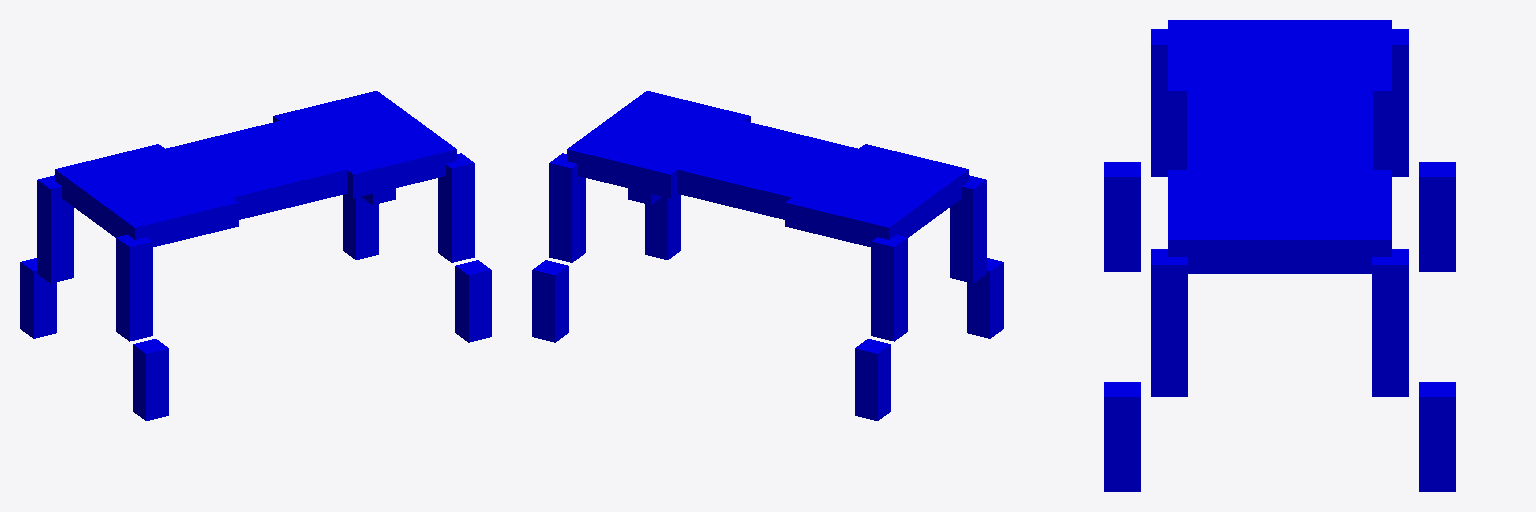
URDF robot description (basic_quad):
<?xml version="1.0" ?>
<!-- =================================================================================== -->
<!-- |    This document was autogenerated by xacro from basic_quad.urdf.xacro          | -->
<!-- |    EDITING THIS FILE BY HAND IS NOT RECOMMENDED                                 | -->
<!-- =================================================================================== -->
<robot name="basic_quad">
  <!-- Actual URDF Definitions -->
  <link name="body">
    <visual>
      <origin rpy="0 0 0" xyz="0.0 0.0 0.0"/>
      <geometry>
        <box size="0.7 0.25145 0.05"/>
      </geometry>
      <material name="blue">
        <color rgba="0 0 1 1"/>
      </material>
    </visual>
    <collision>
      <origin rpy="0 0 0" xyz="0.0 0.0 0.0"/>
      <geometry>
        <box size="0.7 0.25145 0.05"/>
      </geometry>
    </collision>
  </link>
  <link name="fl_thigh">
    <visual>
      <origin rpy="0 0 0" xyz="0.11275 0.0 0.0"/>
      <geometry>
        <box size="0.2255 0.05 0.05"/>
      </geometry>
      <material name="blue">
        <color rgba="0 0 1 1"/>
      </material>
    </visual>
    <collision>
      <origin rpy="0 0 0" xyz="0.11275 0.0 0.0"/>
      <geometry>
        <box size="0.2255 0.05 0.05"/>
      </geometry>
    </collision>
  </link>
  <link name="fl_calf">
    <visual>
      <origin rpy="0 0 0" xyz="0.0 0.0 -0.098125"/>
      <geometry>
        <box size="0.05 0.05 0.19625"/>
      </geometry>
      <material name="blue">
        <color rgba="0 0 1 1"/>
      </material>
    </visual>
    <collision>
      <origin rpy="0 0 0" xyz="0.0 0.0 -0.098125"/>
      <geometry>
        <box size="0.05 0.05 0.19625"/>
      </geometry>
    </collision>
  </link>
  <link name="fl_foot">
    <visual>
      <origin rpy="0 0 0" xyz="0.0 0.0 -0.07"/>
      <geometry>
        <box size="0.05 0.05 0.14"/>
      </geometry>
      <material name="blue">
        <color rgba="0 0 1 1"/>
      </material>
    </visual>
    <collision>
      <origin rpy="0 0 0" xyz="0.0 0.0 -0.07"/>
      <geometry>
        <box size="0.05 0.05 0.14"/>
      </geometry>
    </collision>
  </link>
  <joint name="fl_hip_roll" type="revolute">
    <parent link="body"/>
    <child link="fl_thigh"/>
    <origin rpy="0 0 0" xyz="0.12449999999999997 0.125725 0.0"/>
    <axis xyz="1 0 0"/>
    <limit effort="1" lower="-3.14" upper="3.14" velocity="1"/>
  </joint>
  <joint name="fl_hip_pitch" type="revolute">
    <parent link="fl_thigh"/>
    <child link="fl_calf"/>
    <origin rpy="0 0 0" xyz="0.2255 0.023 0.0"/>
    <axis xyz="0 1 0"/>
    <limit effort="1" lower="-3.14" upper="3.14" velocity="1"/>
  </joint>
  <joint name="fl_knee_pitch" type="revolute">
    <parent link="fl_calf"/>
    <child link="fl_foot"/>
    <origin rpy="0 0 0" xyz="0.0 0.063 -0.19625"/>
    <axis xyz="0 1 0"/>
    <limit effort="1" lower="-3.14" upper="3.14" velocity="1"/>
  </joint>
  <link name="fr_thigh">
    <visual>
      <origin rpy="0 0 0" xyz="0.11275 0.0 0.0"/>
      <geometry>
        <box size="0.2255 0.05 0.05"/>
      </geometry>
      <material name="blue">
        <color rgba="0 0 1 1"/>
      </material>
    </visual>
    <collision>
      <origin rpy="0 0 0" xyz="0.11275 0.0 0.0"/>
      <geometry>
        <box size="0.2255 0.05 0.05"/>
      </geometry>
    </collision>
  </link>
  <link name="fr_calf">
    <visual>
      <origin rpy="0 0 0" xyz="0.0 0.0 -0.098125"/>
      <geometry>
        <box size="0.05 0.05 0.19625"/>
      </geometry>
      <material name="blue">
        <color rgba="0 0 1 1"/>
      </material>
    </visual>
    <collision>
      <origin rpy="0 0 0" xyz="0.0 0.0 -0.098125"/>
      <geometry>
        <box size="0.05 0.05 0.19625"/>
      </geometry>
    </collision>
  </link>
  <link name="fr_foot">
    <visual>
      <origin rpy="0 0 0" xyz="0.0 0.0 -0.07"/>
      <geometry>
        <box size="0.05 0.05 0.14"/>
      </geometry>
      <material name="blue">
        <color rgba="0 0 1 1"/>
      </material>
    </visual>
    <collision>
      <origin rpy="0 0 0" xyz="0.0 0.0 -0.07"/>
      <geometry>
        <box size="0.05 0.05 0.14"/>
      </geometry>
    </collision>
  </link>
  <joint name="fr_hip_roll" type="revolute">
    <parent link="body"/>
    <child link="fr_thigh"/>
    <origin rpy="0 0 0" xyz="0.12449999999999997 -0.125725 0.0"/>
    <axis xyz="-1 0 0"/>
    <limit effort="1" lower="-3.14" upper="3.14" velocity="1"/>
  </joint>
  <joint name="fr_hip_pitch" type="revolute">
    <parent link="fr_thigh"/>
    <child link="fr_calf"/>
    <origin rpy="0 0 0" xyz="0.2255 -0.023 0.0"/>
    <axis xyz="0 -1 0"/>
    <limit effort="1" lower="-3.14" upper="3.14" velocity="1"/>
  </joint>
  <joint name="fr_knee_pitch" type="revolute">
    <parent link="fr_calf"/>
    <child link="fr_foot"/>
    <origin rpy="0 0 0" xyz="0.0 -0.063 -0.19625"/>
    <axis xyz="0 -1 0"/>
    <limit effort="1" lower="-3.14" upper="3.14" velocity="1"/>
  </joint>
  <link name="bl_thigh">
    <visual>
      <origin rpy="0 0 0" xyz="-0.11275 0.0 0.0"/>
      <geometry>
        <box size="0.2255 0.05 0.05"/>
      </geometry>
      <material name="blue">
        <color rgba="0 0 1 1"/>
      </material>
    </visual>
    <collision>
      <origin rpy="0 0 0" xyz="-0.11275 0.0 0.0"/>
      <geometry>
        <box size="0.2255 0.05 0.05"/>
      </geometry>
    </collision>
  </link>
  <link name="bl_calf">
    <visual>
      <origin rpy="0 0 0" xyz="0.0 0.0 -0.098125"/>
      <geometry>
        <box size="0.05 0.05 0.19625"/>
      </geometry>
      <material name="blue">
        <color rgba="0 0 1 1"/>
      </material>
    </visual>
    <collision>
      <origin rpy="0 0 0" xyz="0.0 0.0 -0.098125"/>
      <geometry>
        <box size="0.05 0.05 0.19625"/>
      </geometry>
    </collision>
  </link>
  <link name="bl_foot">
    <visual>
      <origin rpy="0 0 0" xyz="0.0 0.0 -0.07"/>
      <geometry>
        <box size="0.05 0.05 0.14"/>
      </geometry>
      <material name="blue">
        <color rgba="0 0 1 1"/>
      </material>
    </visual>
    <collision>
      <origin rpy="0 0 0" xyz="0.0 0.0 -0.07"/>
      <geometry>
        <box size="0.05 0.05 0.14"/>
      </geometry>
    </collision>
  </link>
  <joint name="bl_hip_roll" type="revolute">
    <parent link="body"/>
    <child link="bl_thigh"/>
    <origin rpy="0 0 0" xyz="-0.12449999999999997 0.125725 0.0"/>
    <axis xyz="1 0 0"/>
    <limit effort="1" lower="-3.14" upper="3.14" velocity="1"/>
  </joint>
  <joint name="bl_hip_pitch" type="revolute">
    <parent link="bl_thigh"/>
    <child link="bl_calf"/>
    <origin rpy="0 0 0" xyz="-0.2255 0.023 0.0"/>
    <axis xyz="0 1 0"/>
    <limit effort="1" lower="-3.14" upper="3.14" velocity="1"/>
  </joint>
  <joint name="bl_knee_pitch" type="revolute">
    <parent link="bl_calf"/>
    <child link="bl_foot"/>
    <origin rpy="0 0 0" xyz="0.0 0.063 -0.19625"/>
    <axis xyz="0 1 0"/>
    <limit effort="1" lower="-3.14" upper="3.14" velocity="1"/>
  </joint>
  <link name="br_thigh">
    <visual>
      <origin rpy="0 0 0" xyz="-0.11275 0.0 0.0"/>
      <geometry>
        <box size="0.2255 0.05 0.05"/>
      </geometry>
      <material name="blue">
        <color rgba="0 0 1 1"/>
      </material>
    </visual>
    <collision>
      <origin rpy="0 0 0" xyz="-0.11275 0.0 0.0"/>
      <geometry>
        <box size="0.2255 0.05 0.05"/>
      </geometry>
    </collision>
  </link>
  <link name="br_calf">
    <visual>
      <origin rpy="0 0 0" xyz="0.0 0.0 -0.098125"/>
      <geometry>
        <box size="0.05 0.05 0.19625"/>
      </geometry>
      <material name="blue">
        <color rgba="0 0 1 1"/>
      </material>
    </visual>
    <collision>
      <origin rpy="0 0 0" xyz="0.0 0.0 -0.098125"/>
      <geometry>
        <box size="0.05 0.05 0.19625"/>
      </geometry>
    </collision>
  </link>
  <link name="br_foot">
    <visual>
      <origin rpy="0 0 0" xyz="0.0 0.0 -0.07"/>
      <geometry>
        <box size="0.05 0.05 0.14"/>
      </geometry>
      <material name="blue">
        <color rgba="0 0 1 1"/>
      </material>
    </visual>
    <collision>
      <origin rpy="0 0 0" xyz="0.0 0.0 -0.07"/>
      <geometry>
        <box size="0.05 0.05 0.14"/>
      </geometry>
    </collision>
  </link>
  <joint name="br_hip_roll" type="revolute">
    <parent link="body"/>
    <child link="br_thigh"/>
    <origin rpy="0 0 0" xyz="-0.12449999999999997 -0.125725 0.0"/>
    <axis xyz="-1 0 0"/>
    <limit effort="1" lower="-3.14" upper="3.14" velocity="1"/>
  </joint>
  <joint name="br_hip_pitch" type="revolute">
    <parent link="br_thigh"/>
    <child link="br_calf"/>
    <origin rpy="0 0 0" xyz="-0.2255 -0.023 0.0"/>
    <axis xyz="0 -1 0"/>
    <limit effort="1" lower="-3.14" upper="3.14" velocity="1"/>
  </joint>
  <joint name="br_knee_pitch" type="revolute">
    <parent link="br_calf"/>
    <child link="br_foot"/>
    <origin rpy="0 0 0" xyz="0.0 -0.063 -0.19625"/>
    <axis xyz="0 -1 0"/>
    <limit effort="1" lower="-3.14" upper="3.14" velocity="1"/>
  </joint>
</robot>

--- What the picture shows (computed from the rendered views, not written in the file) ---
Views: 3 orthographic renders of the robot side by side, from view 1: azimuth 30°, elevation 25°; view 2: azimuth 150°, elevation 25°; view 3: azimuth 270°, elevation 25°.
Robot: basic_quad — 13 links, 12 joints (12 revolute); root link body; default pose: every joint at zero.
Visible links, largest first — view 1: body, fr_thigh, br_calf, fr_calf, bl_calf, br_thigh, fr_foot, br_foot, bl_foot, fl_foot, bl_thigh, fl_thigh; view 2: body, fl_thigh, bl_calf, fl_calf, br_calf, bl_thigh, fl_foot, bl_foot, br_foot, fr_foot, br_thigh, fr_thigh; view 3: body, fl_calf, fr_calf, fl_foot, fr_foot, bl_foot, br_foot, bl_calf, br_calf, bl_thigh, br_thigh, fr_thigh (+1 smaller).
Link boxes in pixels (x1,y1,x2,y2): body: (61,96,443,237); fr_thigh: (341,140,456,198); br_calf: (116,235,152,341); fr_calf: (438,153,474,262); bl_calf: (37,175,73,283); br_thigh: (122,193,238,246); fr_foot: (455,260,491,342); br_foot: (133,339,168,420); bl_foot: (20,258,56,338); fl_foot: (343,194,378,259); bl_thigh: (55,144,164,184); fl_thigh: (273,91,383,121); body: (580,96,962,237); fl_thigh: (567,140,682,198); bl_calf: (871,235,907,341); fl_calf: (549,153,585,262); br_calf: (950,175,986,283); bl_thigh: (785,194,901,246); fl_foot: (532,260,568,342); bl_foot: (855,339,890,420); br_foot: (967,258,1003,338); fr_foot: (645,194,680,259); br_thigh: (859,144,968,184); fr_thigh: (640,91,750,121); body: (1187,20,1372,273); fl_calf: (1372,249,1408,396); fr_calf: (1151,249,1187,396); fl_foot: (1419,382,1455,491); fr_foot: (1104,382,1140,491); bl_foot: (1419,162,1455,271); br_foot: (1104,162,1140,271); bl_calf: (1373,29,1408,176); br_calf: (1151,29,1186,176); bl_thigh: (1355,20,1391,124); br_thigh: (1168,20,1204,124); fr_thigh: (1168,170,1204,273).
Size in the robot's own frame: 0.75 by 0.4735 by 0.3613 metres.
Geometry: primitives only (box / cylinder / sphere), no mesh files.
